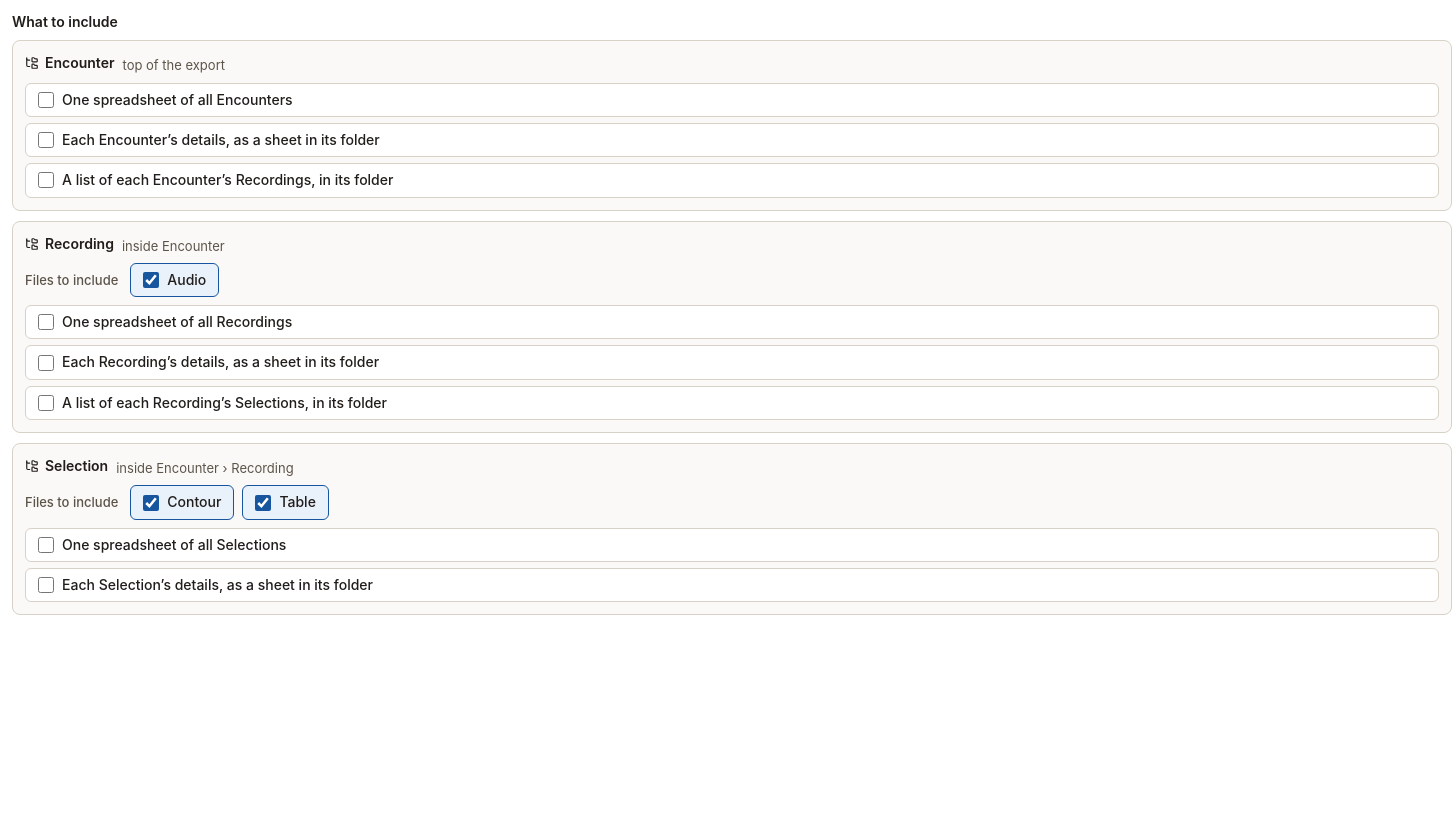
Test: what goes in the folder › shows the files to take as rows too, each a full-row choice
The image size is (1452, 822).
Expected: the checkbox labelled "Contour" is checked, [143, 494, 159, 510]
// The whole row is the target, not only the box.
Click the text "Contour".
click(194, 503)  # box [167, 492, 221, 513]
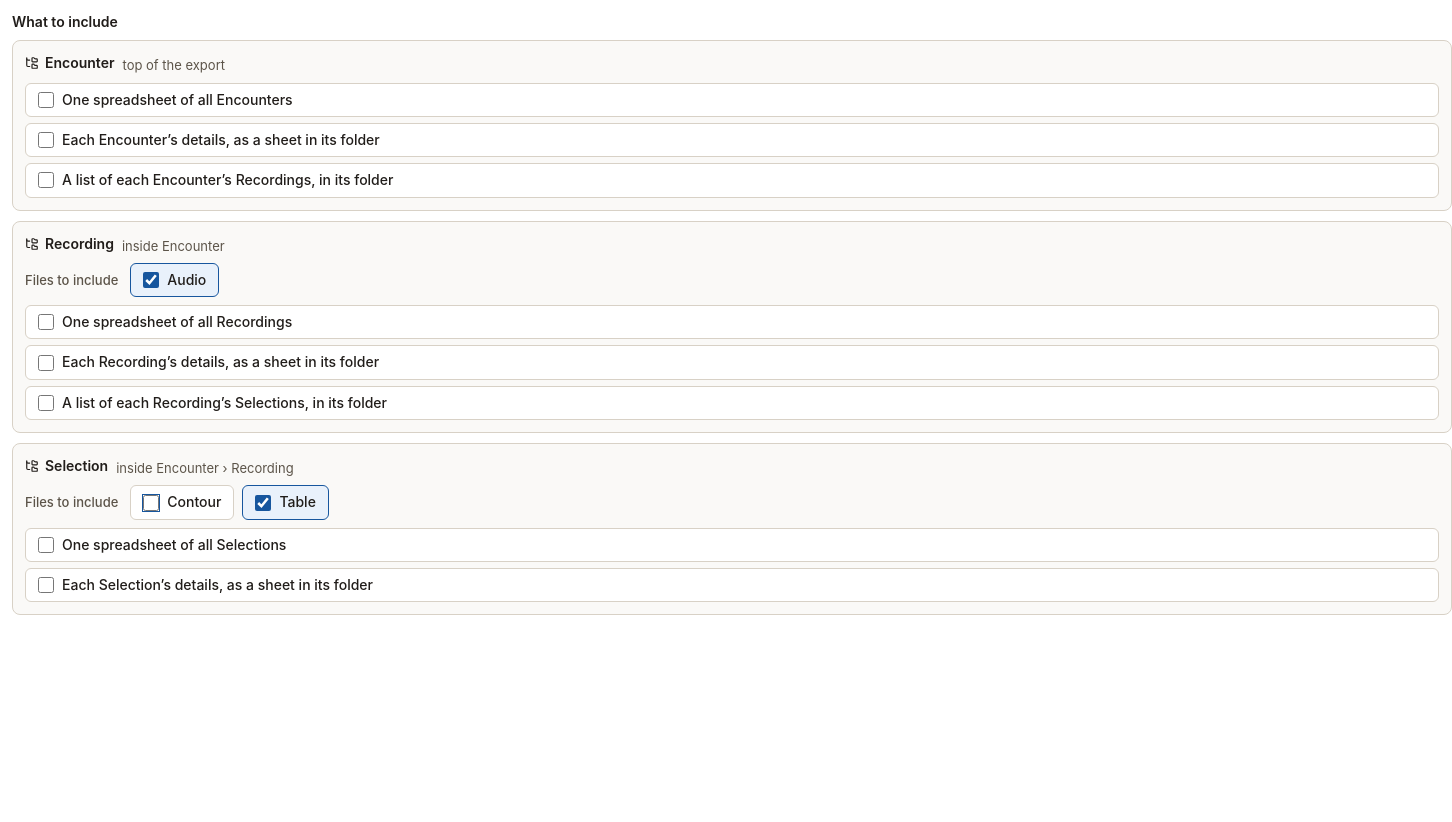
Expected: the checkbox labelled "Contour" is not checked, [143, 494, 159, 510]
